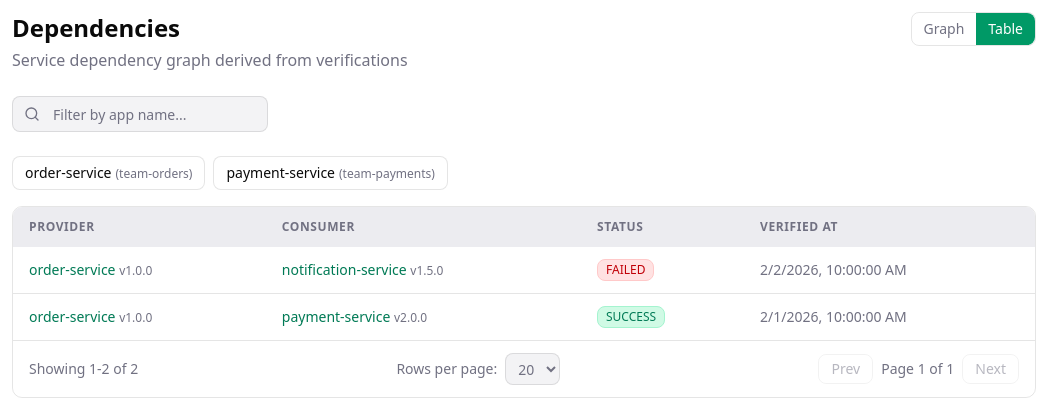
GraphPage › should show app detail view when node button clicked in table view
Click the button "order-service(team-orders)" at (109, 173), box x1=12 y1=156 x2=206 y2=190
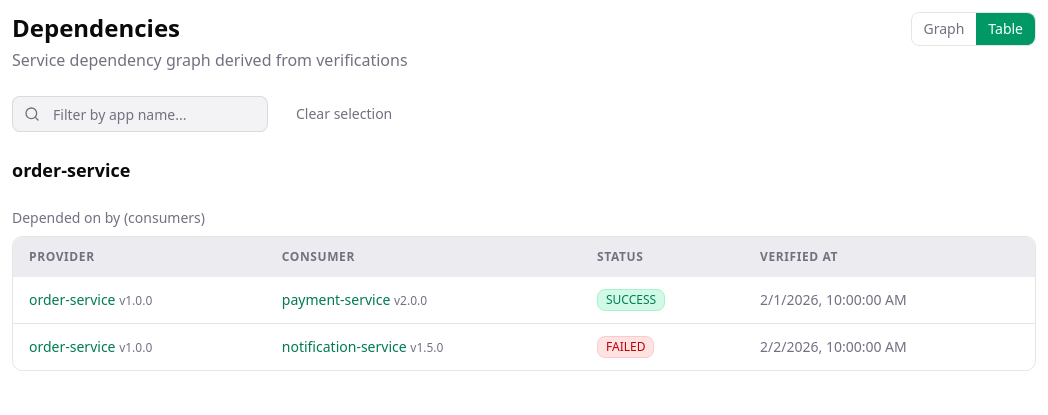
Now the heading "Depended on by (consumers)" is shown, box x1=12 y1=208 x2=205 y2=227
